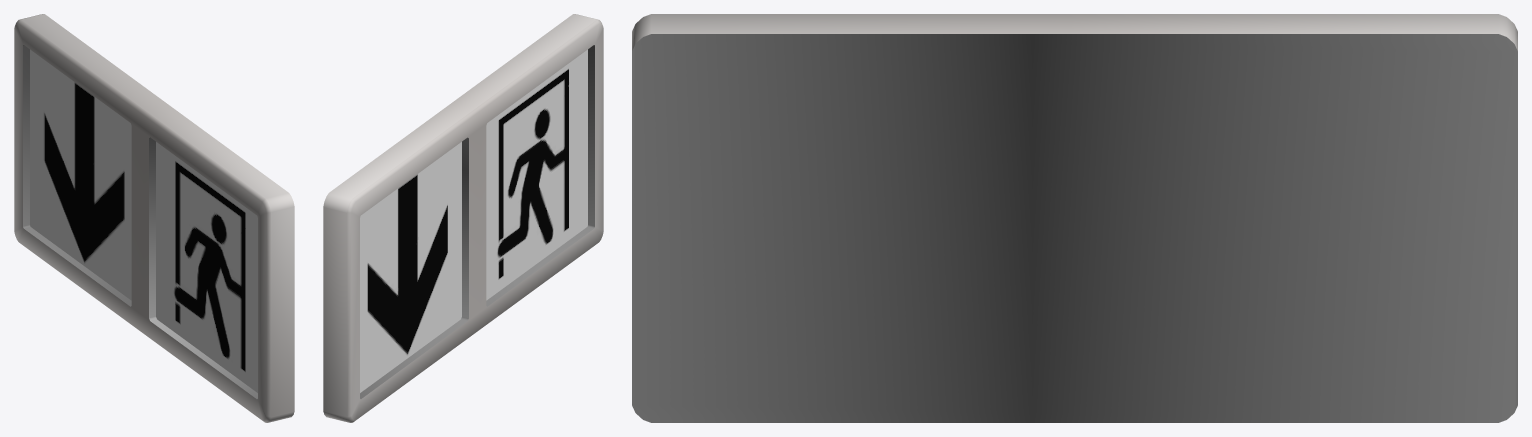
File: sign_exit.obj
3 renders of one model, left to right at view 1: azimuth 30°, elevation 25°; view 2: azimuth 150°, elevation 25°; view 3: azimuth 270°, elevation 25°, orthographic. The views are drawn at different scales.
Visible parts, largest first — view 1: sign_frame02.mdl/parts/obj/sign_frame02.obj; view 2: sign_frame02.mdl/parts/obj/sign_frame02.obj; view 3: sign_frame02.mdl/parts/obj/sign_frame02.obj.
Part boxes in pixels (x1,y1,x2,y2): sign_frame02.mdl/parts/obj/sign_frame02.obj: (14,14,294,422); sign_frame02.mdl/parts/obj/sign_frame02.obj: (323,14,603,422); sign_frame02.mdl/parts/obj/sign_frame02.obj: (632,14,1517,422).
Size of the model in its own units: 0.068 by 0.5495 by 1.13.
